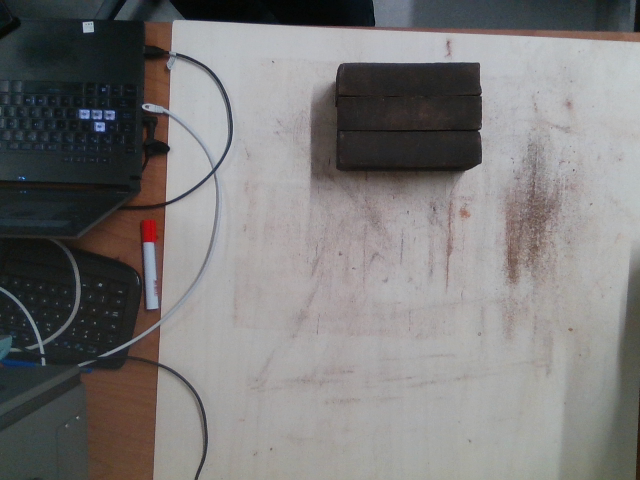brick-side: (342, 62, 477, 95), (340, 131, 475, 164), (341, 97, 477, 129)
